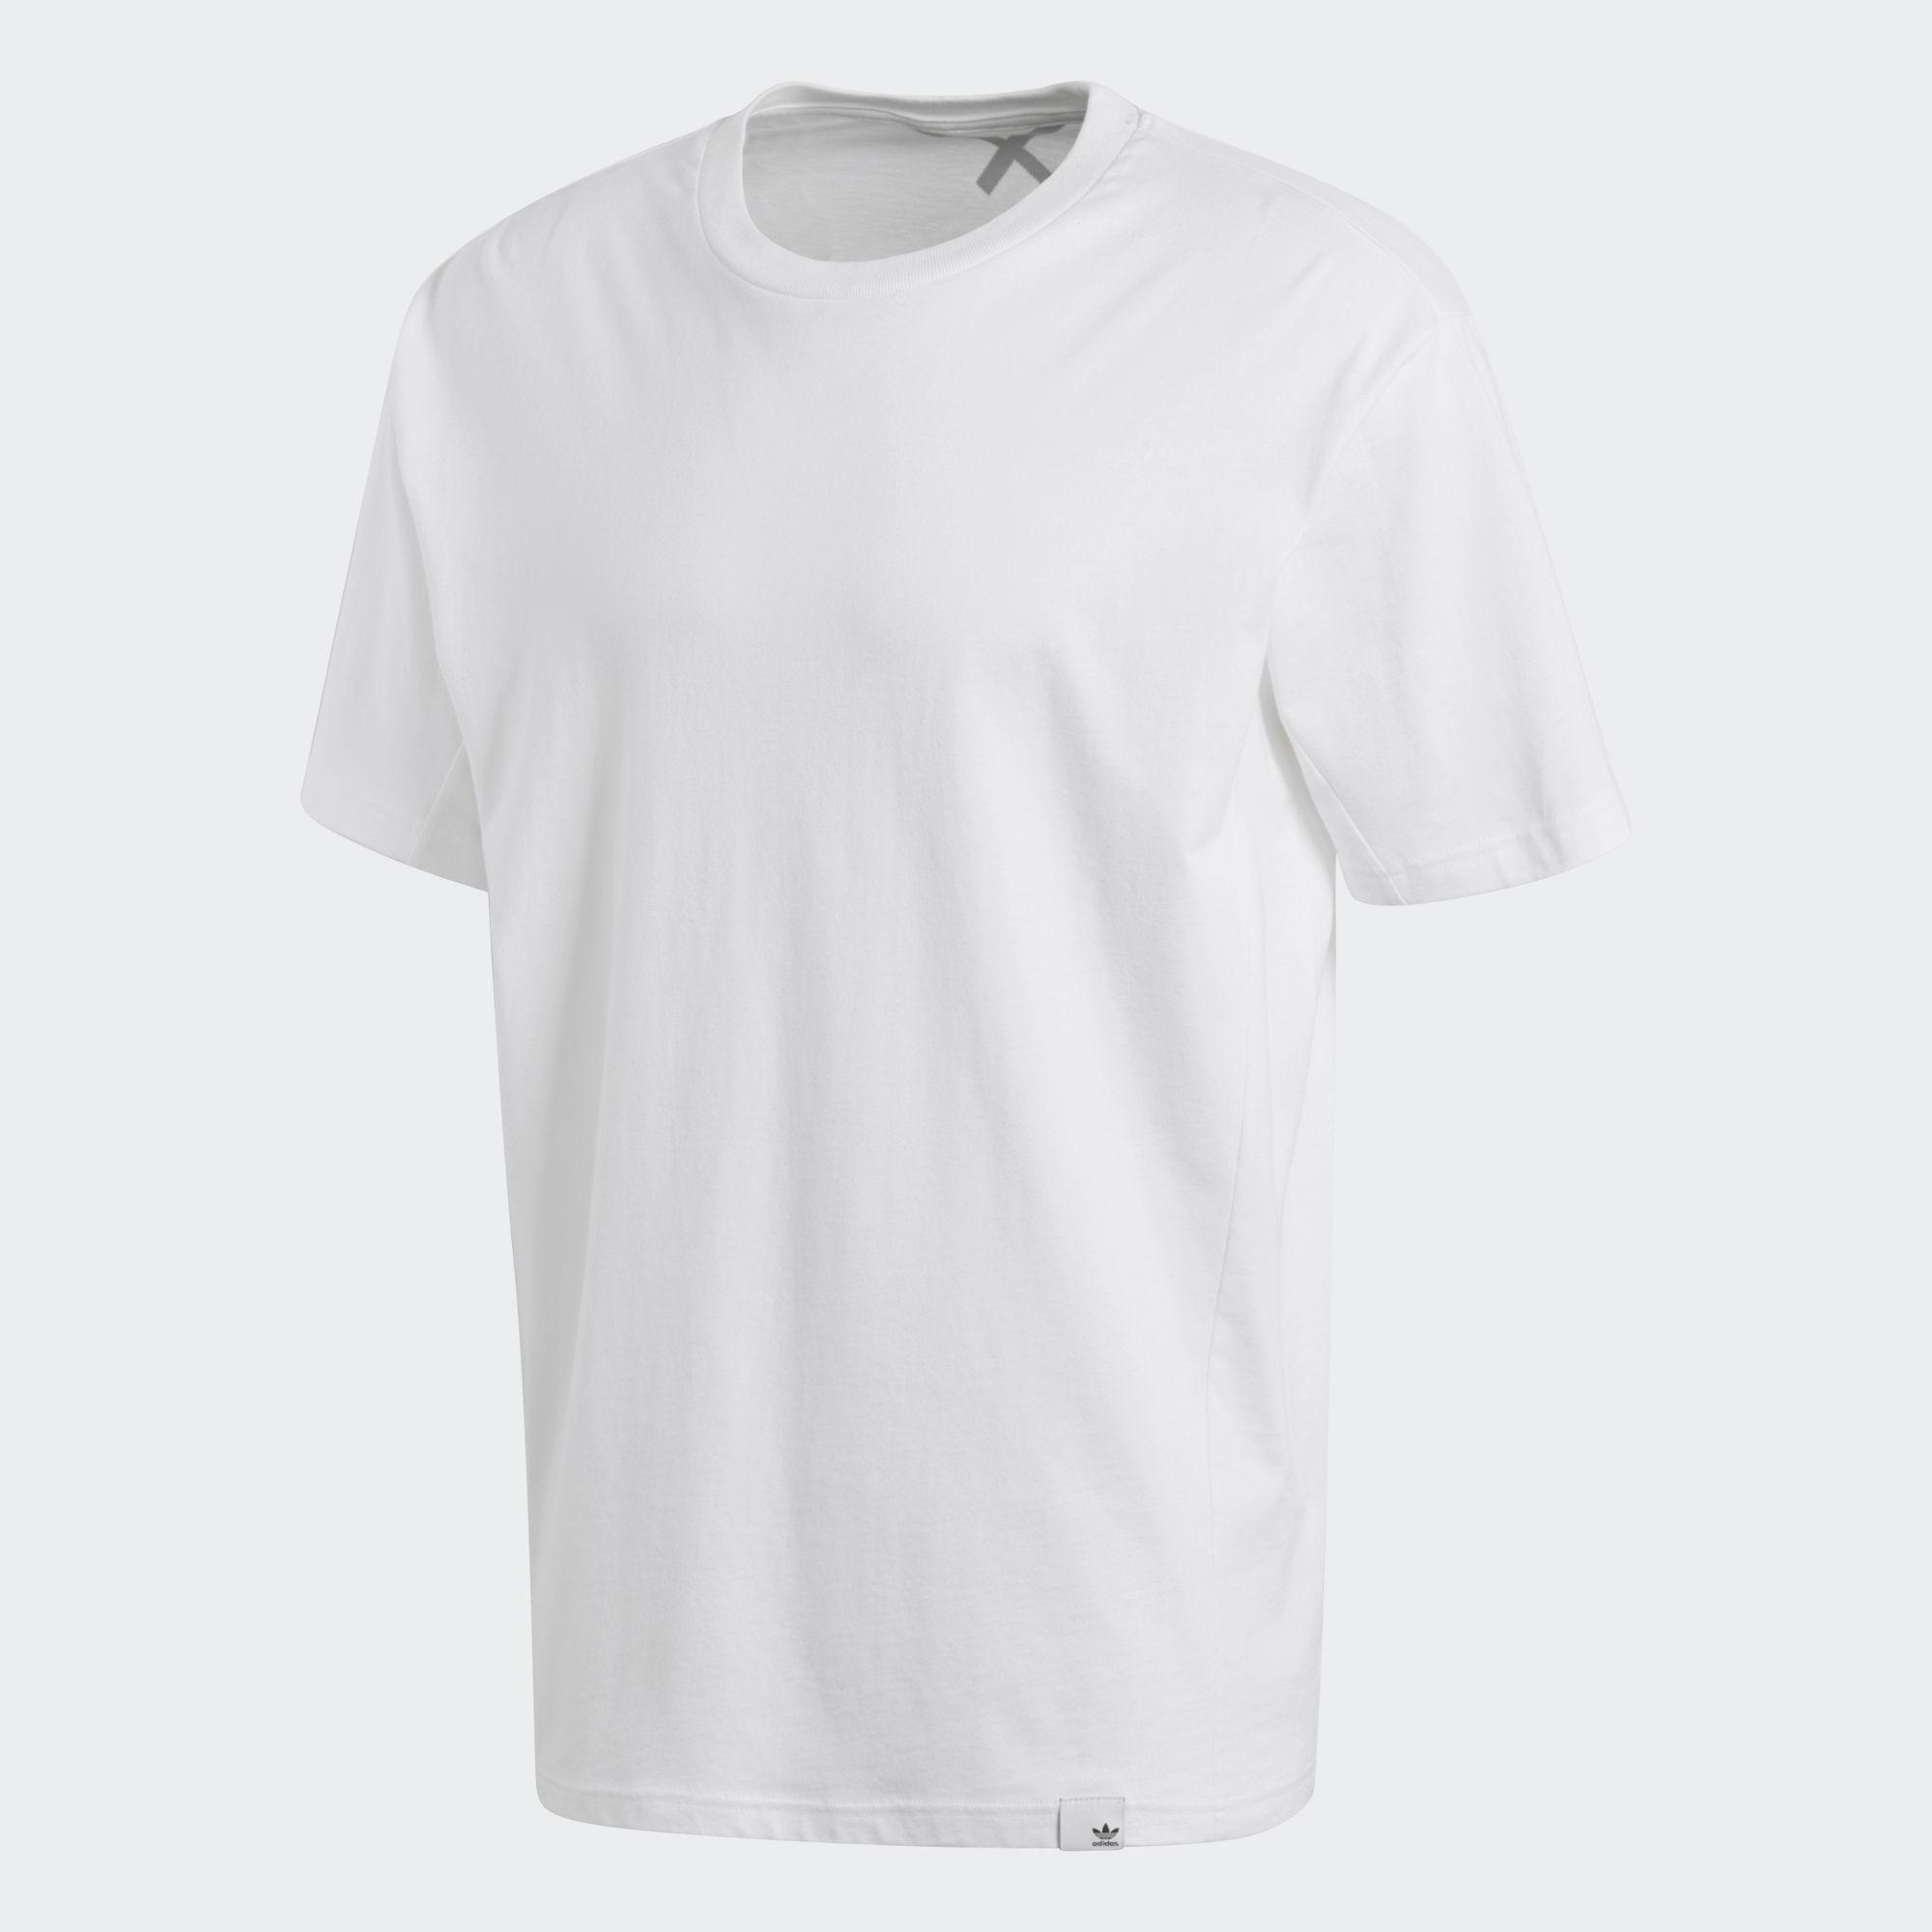teeshirt: (274, 42, 1578, 1845)
